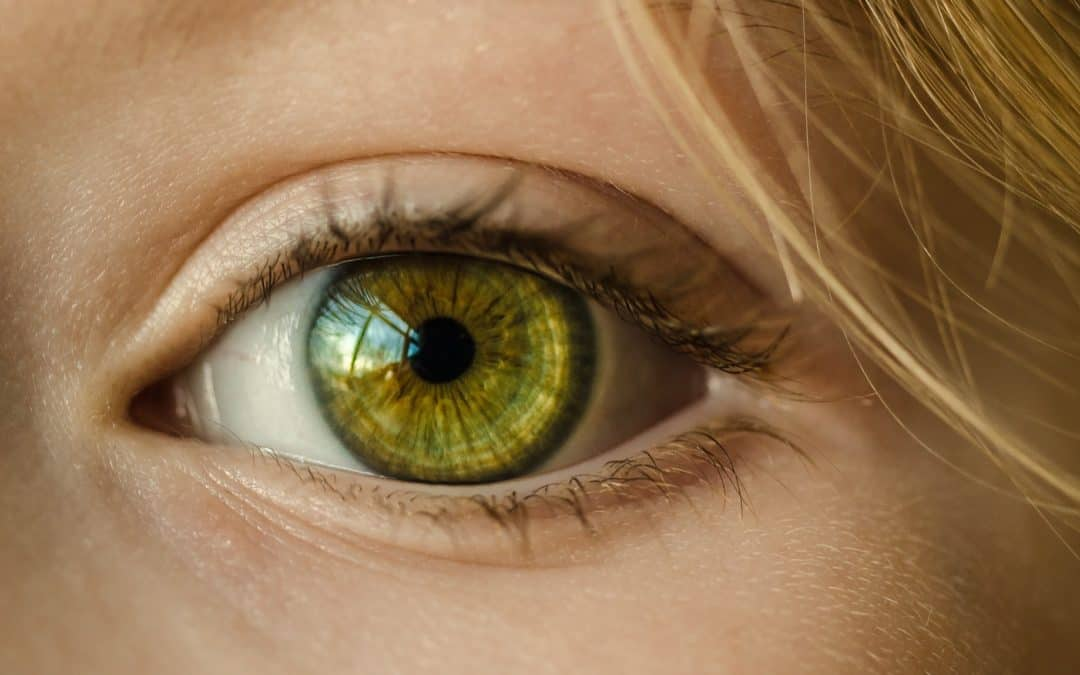iris: (303, 234, 599, 487)
pupil: (401, 313, 477, 383)
